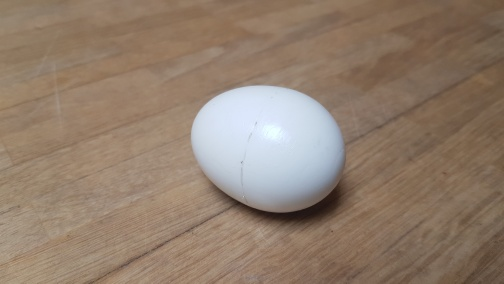egg: (188, 85, 347, 215)
